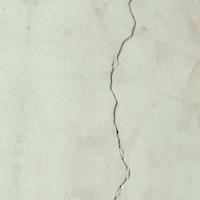crack: (104, 0, 155, 199)
